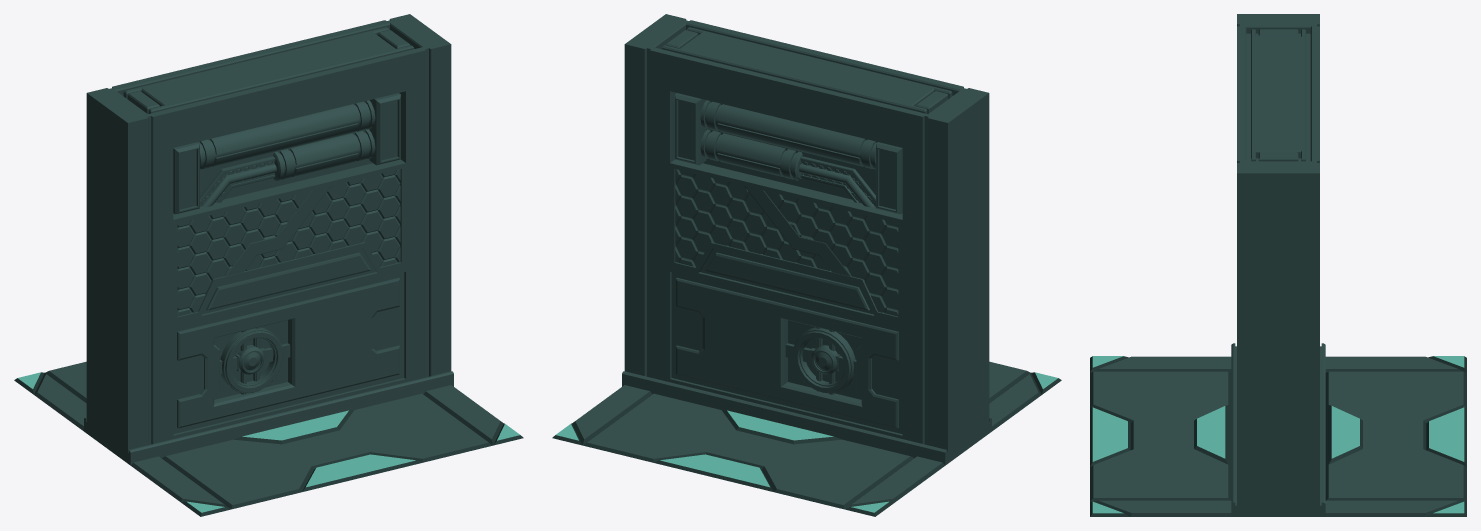
The model's file is Walls_Straight_Var00.fbx.
3 renders of one model, left to right at view 1: azimuth 30°, elevation 25°; view 2: azimuth 150°, elevation 25°; view 3: azimuth 270°, elevation 25°, orthographic.
Visible parts, largest first — view 1: Walls_Straight_Var00; view 2: Walls_Straight_Var00; view 3: Walls_Straight_Var00.
Boxes of the visible parts, x1,y1,x2,y2 form: Walls_Straight_Var00: (14,14,523,516); Walls_Straight_Var00: (552,14,1061,516); Walls_Straight_Var00: (1090,14,1466,516).
Bounding box in the file's own units: 600 × 604 × 600.
